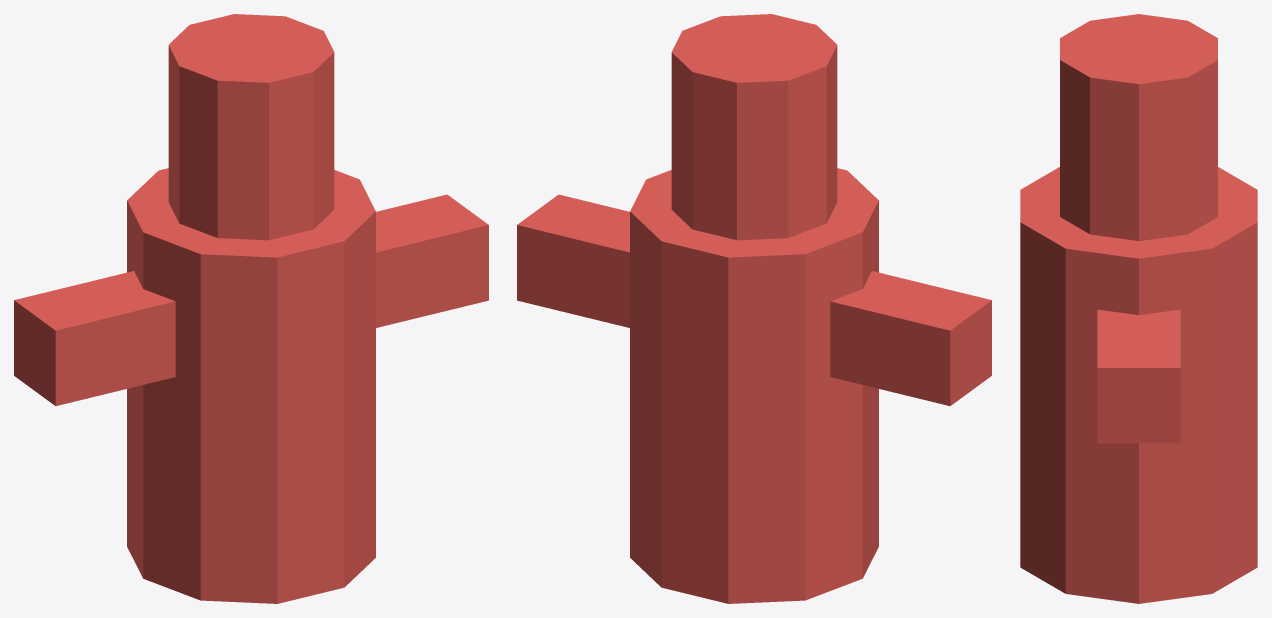
Rendered from fire_hydrant.glb.
The picture shows the model from 3 angles, left to right: view 1: azimuth 30°, elevation 25°; view 2: azimuth 150°, elevation 25°; view 3: azimuth 270°, elevation 25°; orthographic projection.
Bounding box in the file's own units: 0.72 × 0.8 × 0.3424.
